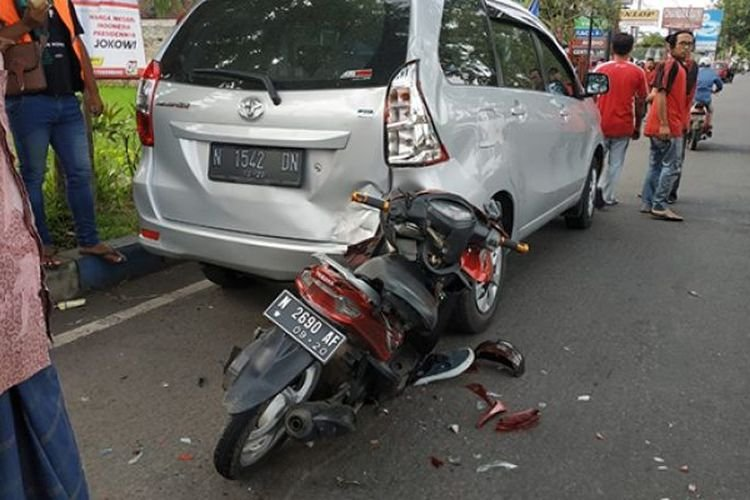mobil: (133, 5, 617, 281)
motor: (182, 204, 509, 467)
